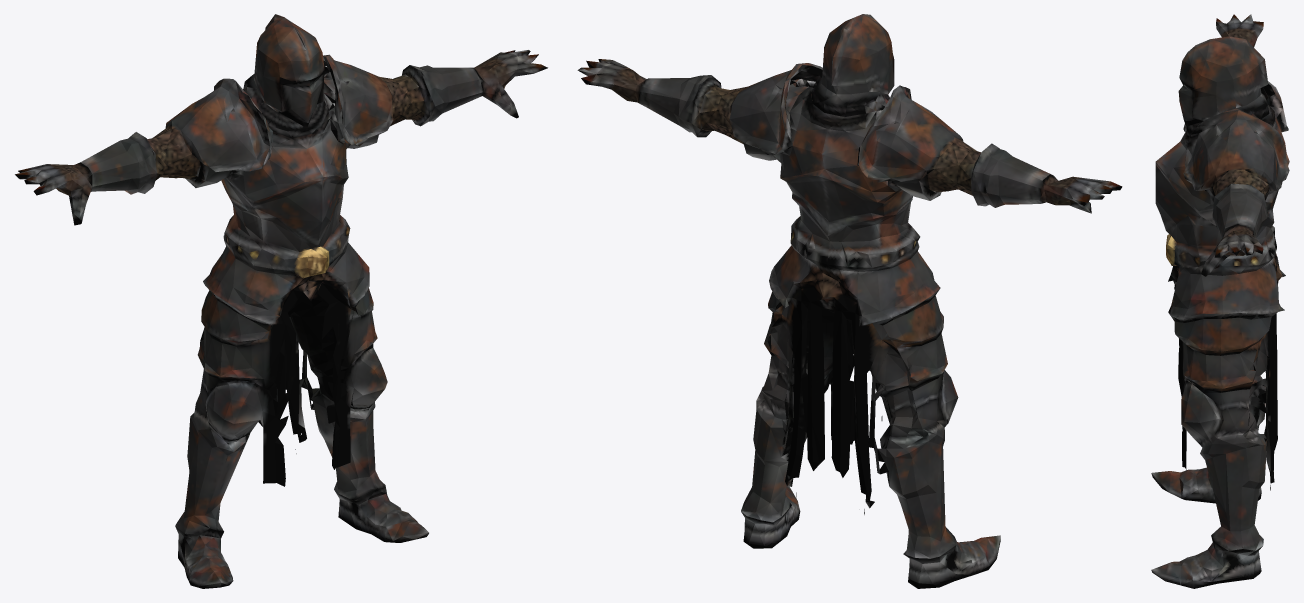
File: revenant_knight.gltf
3 views of the same model, side by side, from view 1: azimuth 30°, elevation 25°; view 2: azimuth 150°, elevation 25°; view 3: azimuth 270°, elevation 25° (orthographic). The views are drawn at different scales.
Visible parts, largest first — view 1: revenant_knight; view 2: revenant_knight; view 3: revenant_knight.
Part boxes in pixels (bbox=[...]): revenant_knight: bbox=[15, 14, 547, 588]; revenant_knight: bbox=[577, 14, 1122, 588]; revenant_knight: bbox=[1151, 14, 1289, 588].
Bounding box in the file's own units: 1 × 0.9748 × 0.2448.
Materials: 1 (1 with a texture image).
